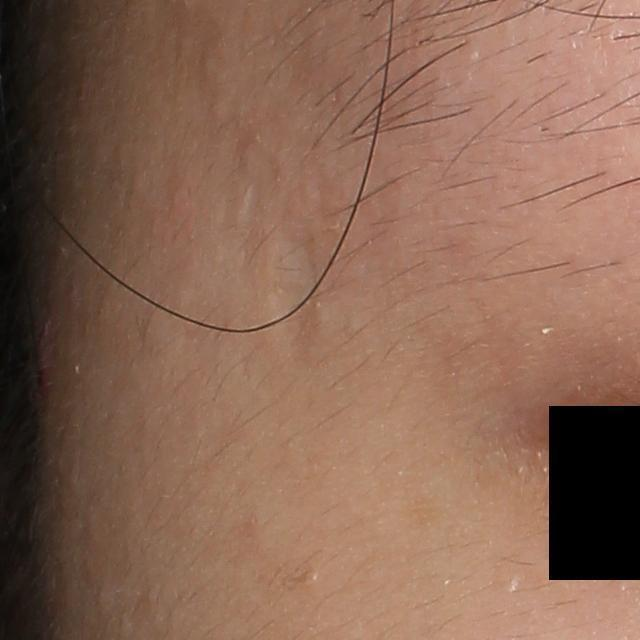comedo: (300, 565, 321, 585)
